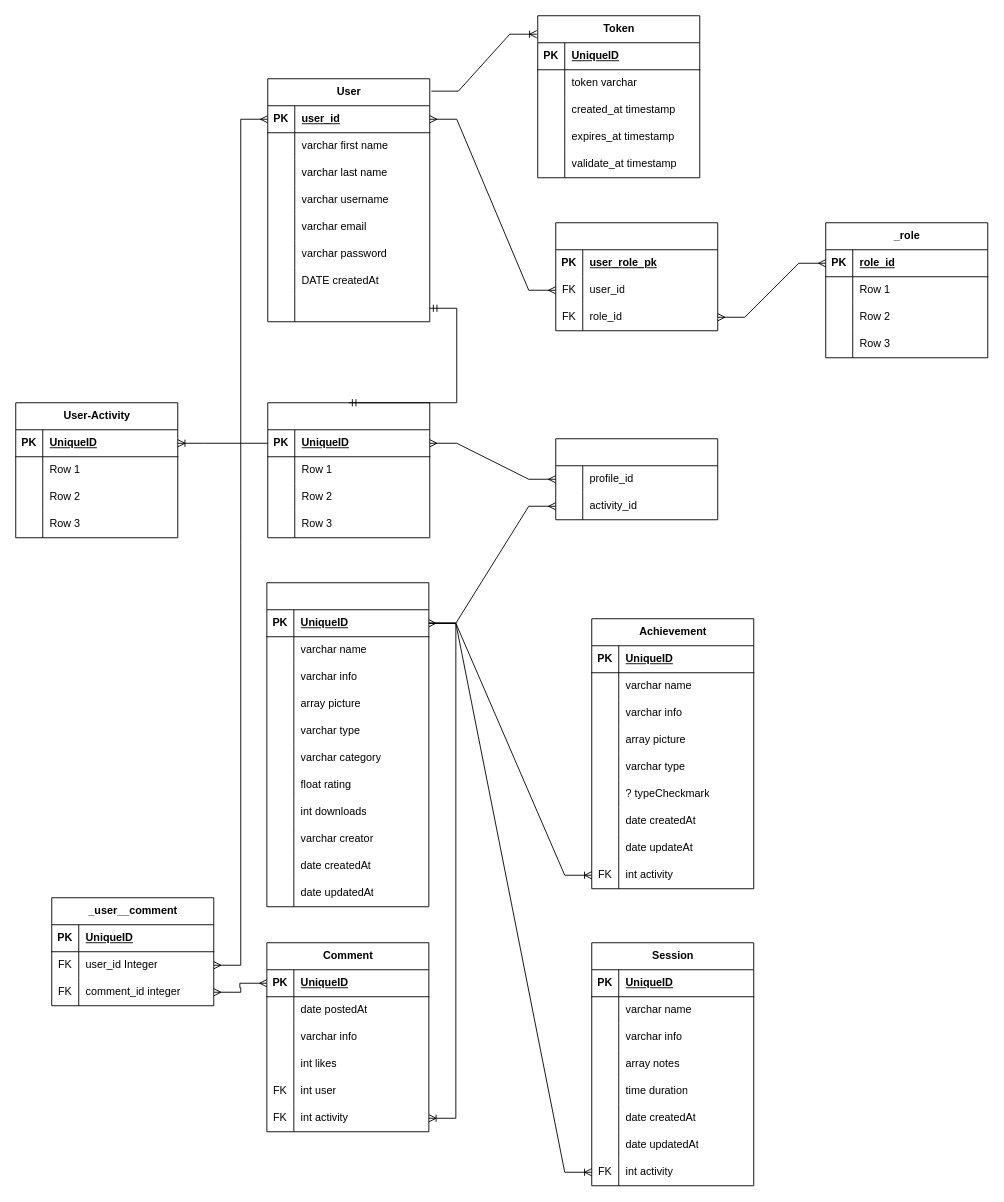
Some shapes in this 1004 by 1202 pixel diagram are drawn without their labels. The box of each missing label's shape, as (x1, y1, x2, y2) in pixels:
_profile__activity: (555, 438, 718, 520)
_user_roles: (555, 222, 718, 331)
Activity: (266, 582, 429, 907)
Profile: (267, 402, 430, 538)
